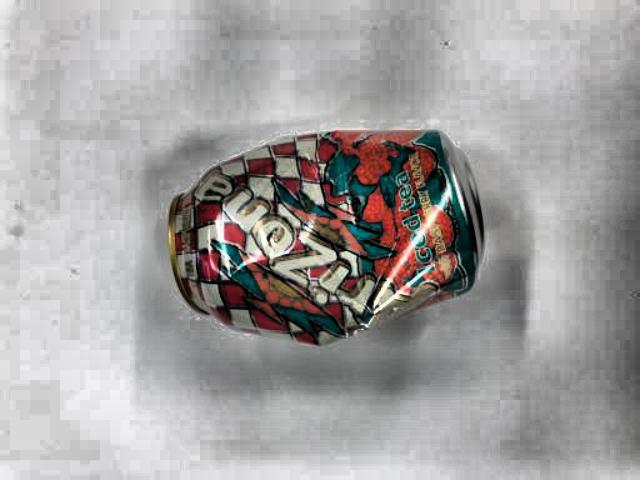Bottles: (148, 90, 505, 362)
